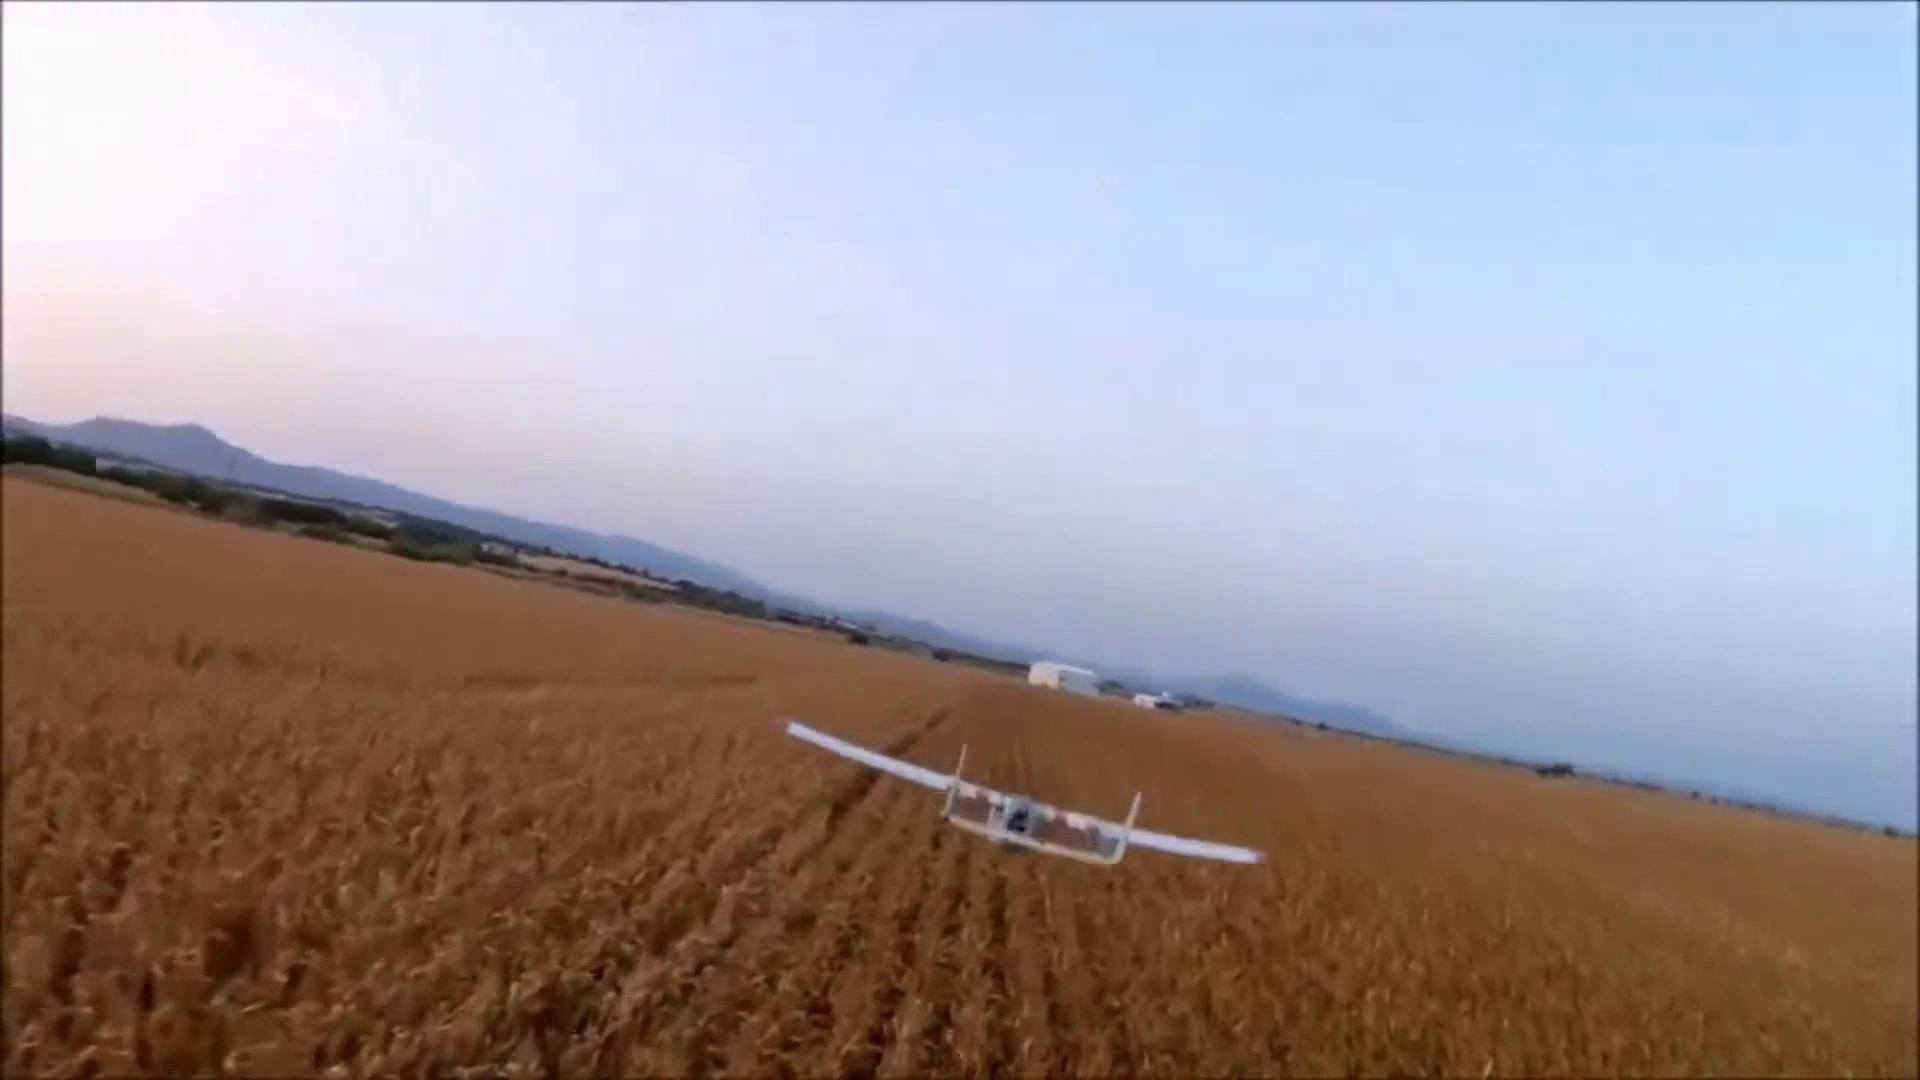airplane: (780, 721, 1266, 870)
